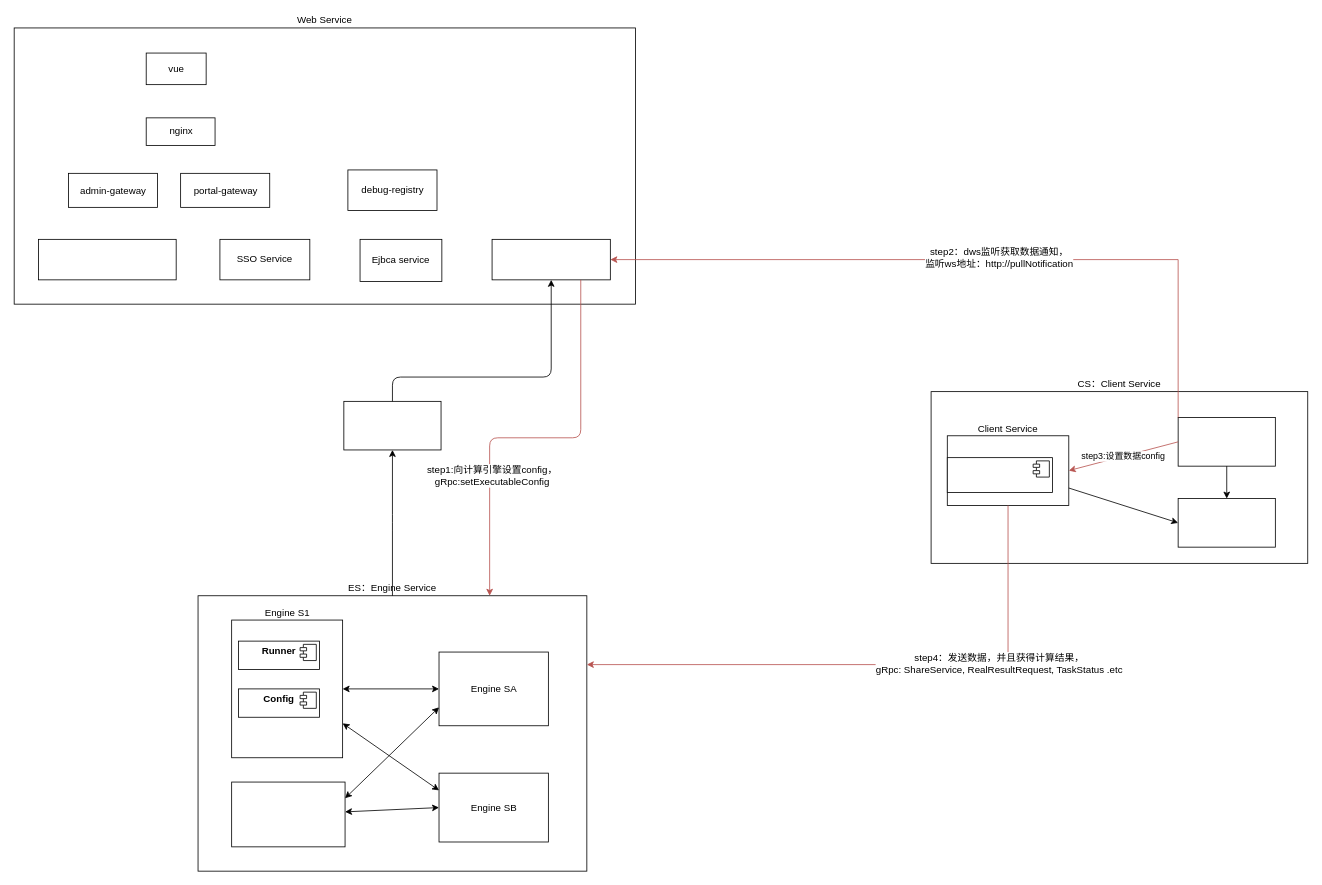
This 1322x885 diagram has some shape labels left out. The shapes that lost their labels are listed below. From the top down, each one's centre as x and y in pixels, then its label:
the point at 107,259: Permision Manage Server
the point at 550,259: Task Manager Server
the point at 392,425: ELK
the point at 1226,441: debug-minws:Debug minWeb Service
the point at 999,474: ClientRunner
the point at 1226,522: DS:Data Service
the point at 288,814: Engine S2
